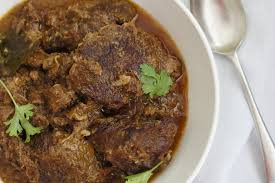rendang: (1, 2, 195, 181)
